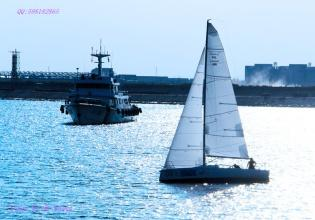fanchuan: (155, 20, 270, 182)
otherboat: (56, 43, 144, 129)
